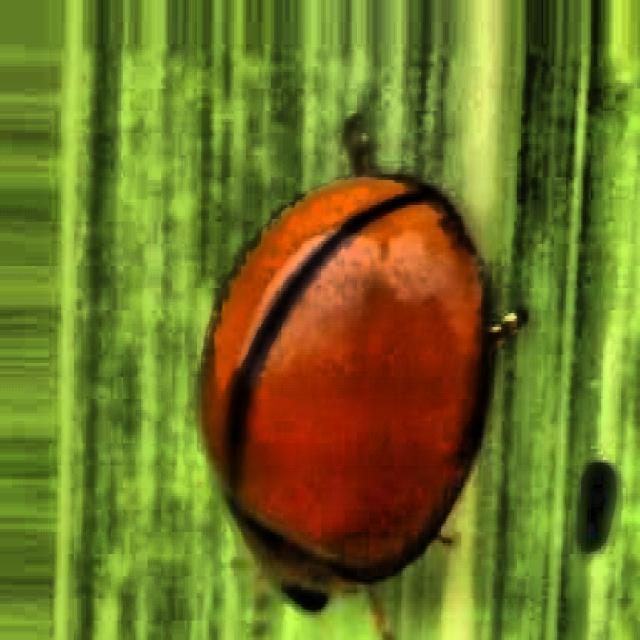Ladybug: (142, 166, 620, 640)
